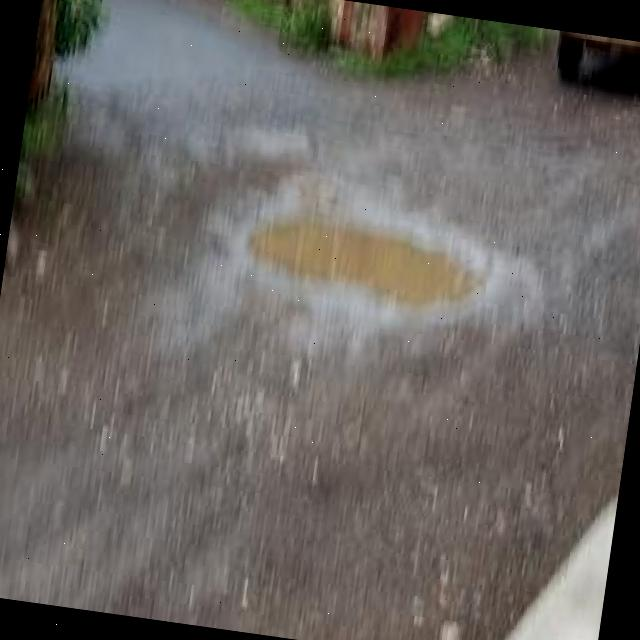stagnation: (217, 196, 506, 330)
